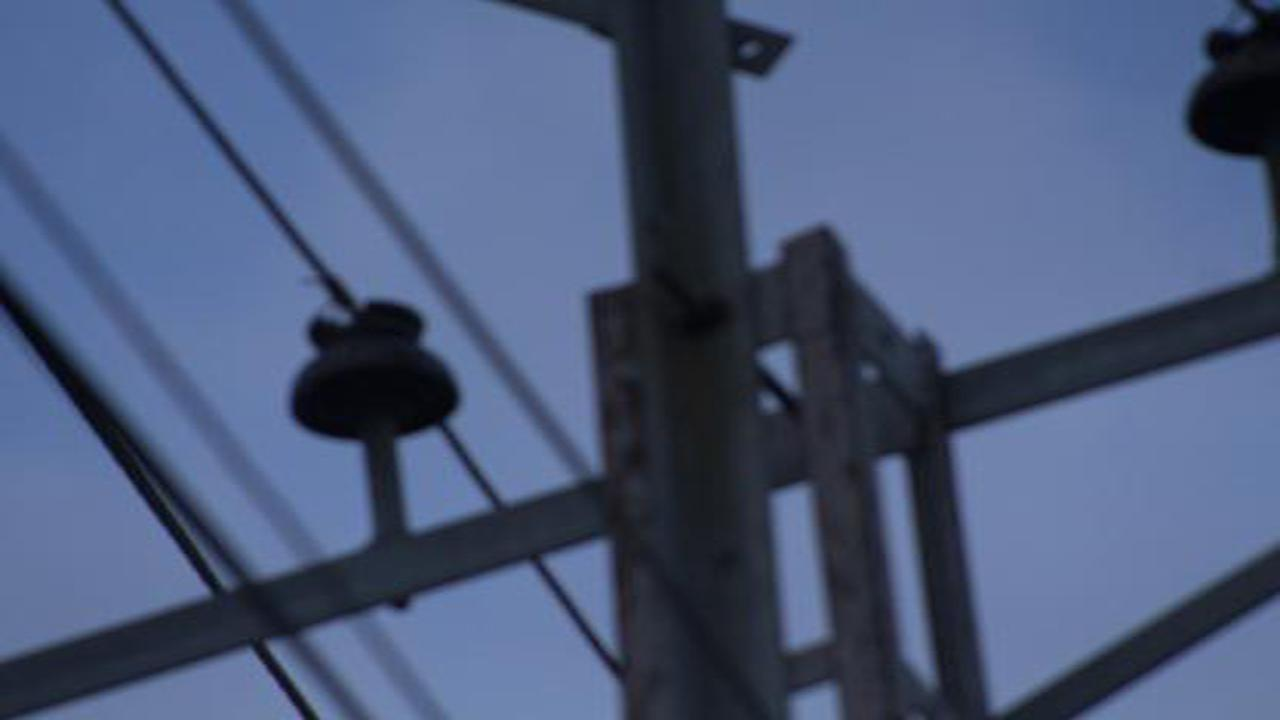insulator_pin: (287, 293, 465, 451)
